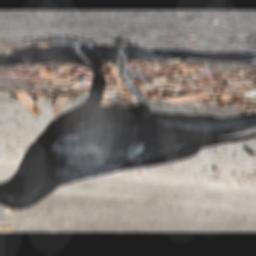Crow: (0, 38, 256, 213)
